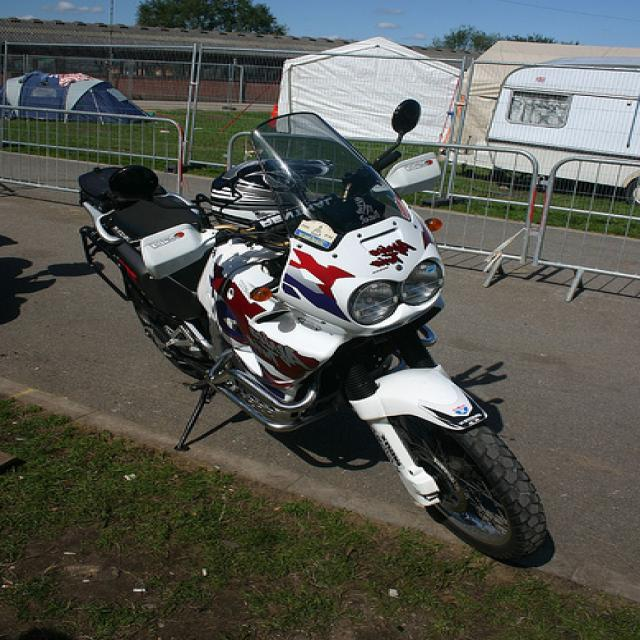Motorbike: (52, 96, 558, 573)
